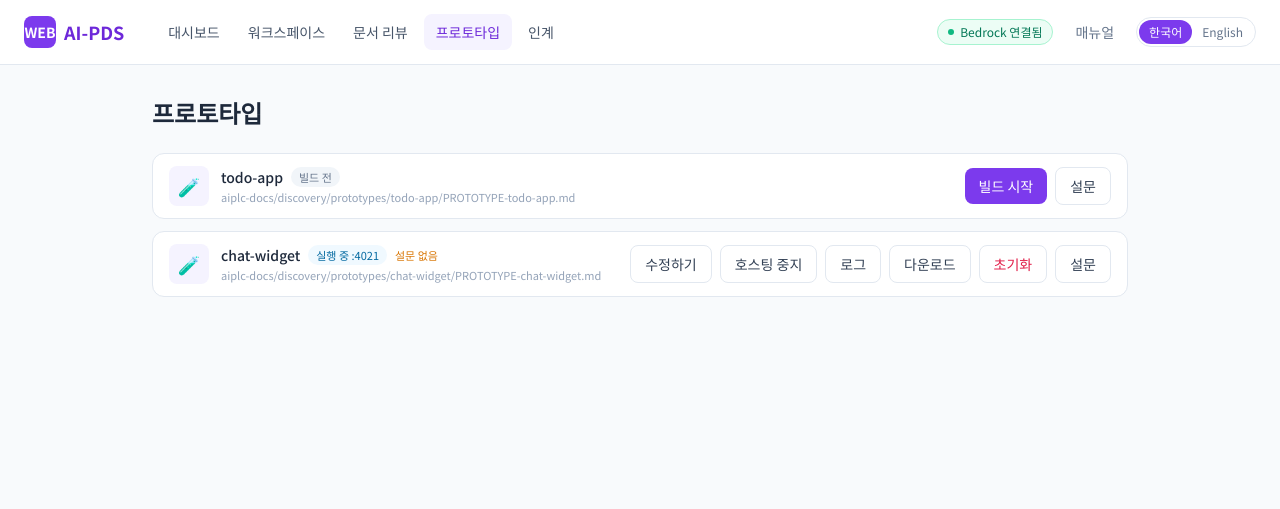
Test case: survey panel reachability › toggles the panel closed on a second click
This screenshot has width=1280, height=509.
Click the button "설문" in the row of "빌드 전": (1083, 186) x1=1055 y1=167 x2=1111 y2=205
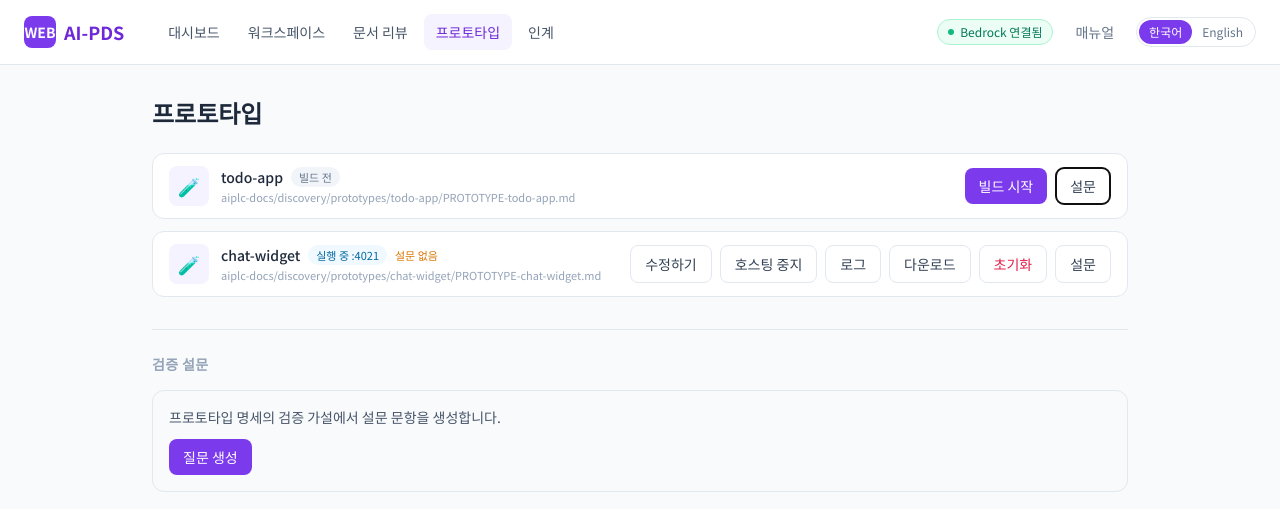
Now the heading "검증 설문" is shown, box x1=152 y1=354 x2=208 y2=374
Click the button "설문" in the row of "빌드 전": (1083, 186) x1=1055 y1=167 x2=1111 y2=205
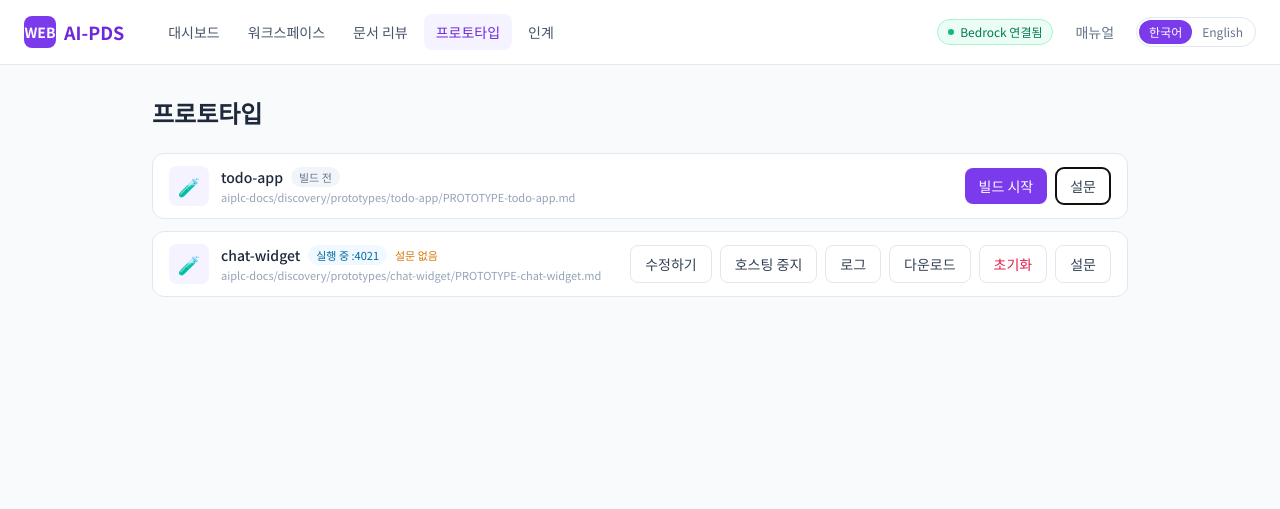
Now the heading "검증 설문" is gone
